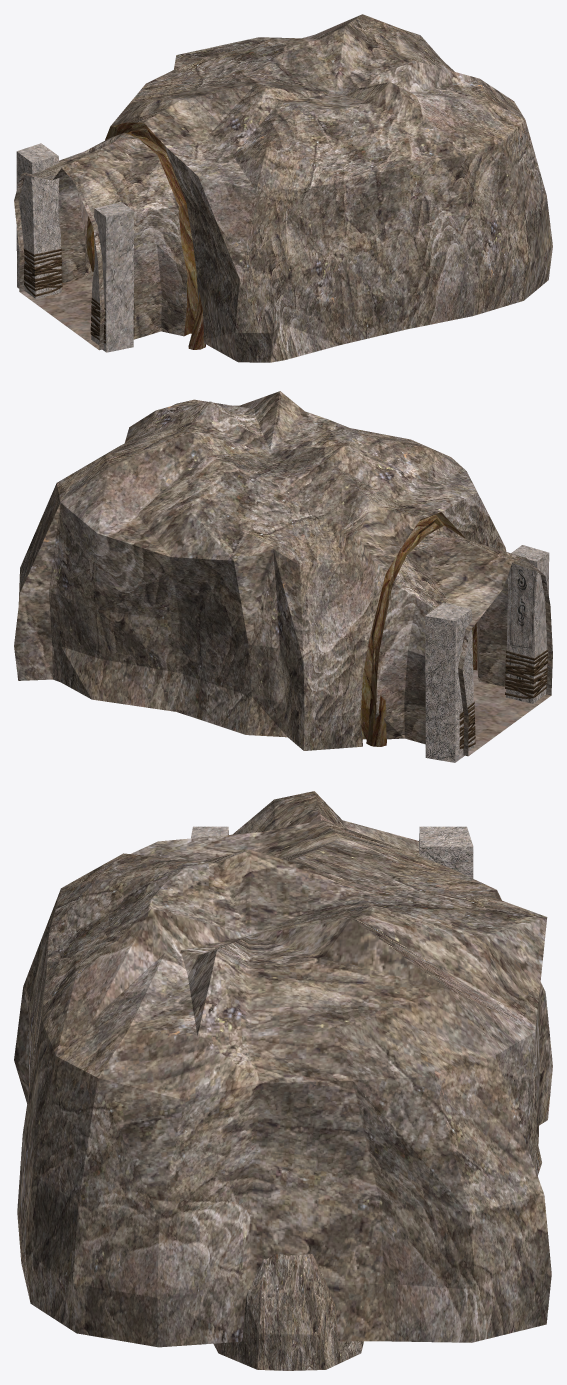
The model's file is thm_dath_mtn_clan_stronghold_r10_craft3_mesh_r10.fbx.
3 views of the same model, one above another, from view 1: azimuth 30°, elevation 25°; view 2: azimuth 150°, elevation 25°; view 3: azimuth 270°, elevation 25° (orthographic). The views are drawn at different scales.
Parts seen in each view (by area): view 1: mesh_node; view 2: mesh_node; view 3: mesh_node.
Part boxes in pixels (x1,y1,x2,y2): mesh_node: (14, 14, 552, 362); mesh_node: (14, 391, 552, 762); mesh_node: (14, 791, 552, 1370).
Bounding box in the file's own units: 10.23 × 5.2 × 7.24.
